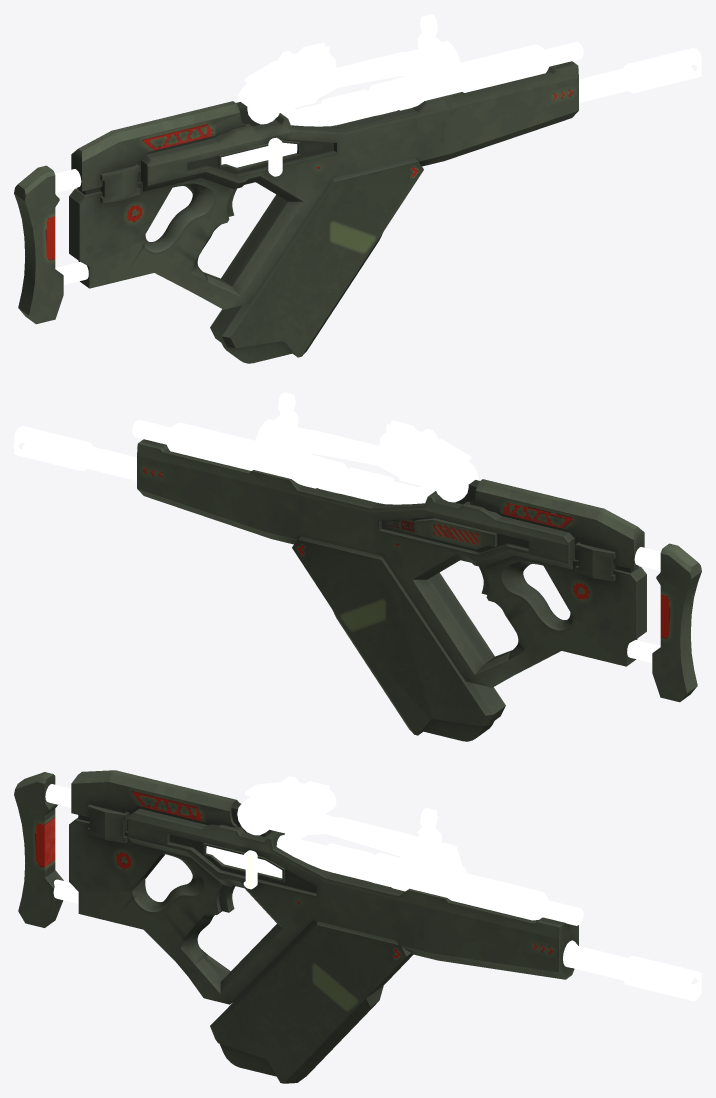
File: Mid_Stinger.glb
3 renders of one model, top to bottom at view 1: azimuth 30°, elevation 25°; view 2: azimuth 150°, elevation 25°; view 3: azimuth 330°, elevation 25°, orthographic.
Visible parts, largest first — view 1: Cube.013_Body_0, Cube.013_Pipes_0, Cube.013_Cartridge_0; view 2: Cube.013_Body_0, Cube.013_Pipes_0, Cube.013_Cartridge_0; view 3: Cube.013_Body_0, Cube.013_Pipes_0, Cube.013_Cartridge_0.
Boxes of the visible parts, <box> form: Cube.013_Body_0: <box>14,61,578,324</box>; Cube.013_Pipes_0: <box>55,14,701,284</box>; Cube.013_Cartridge_0: <box>210,158,423,363</box>; Cube.013_Body_0: <box>137,439,701,702</box>; Cube.013_Pipes_0: <box>14,392,660,662</box>; Cube.013_Cartridge_0: <box>292,536,505,741</box>; Cube.013_Body_0: <box>14,770,578,1004</box>; Cube.013_Pipes_0: <box>45,776,701,1001</box>; Cube.013_Cartridge_0: <box>210,920,413,1083</box>.
Size of the model in its own units: 4.47 by 1.9 by 0.2796.
3 materials, 3 textured.
